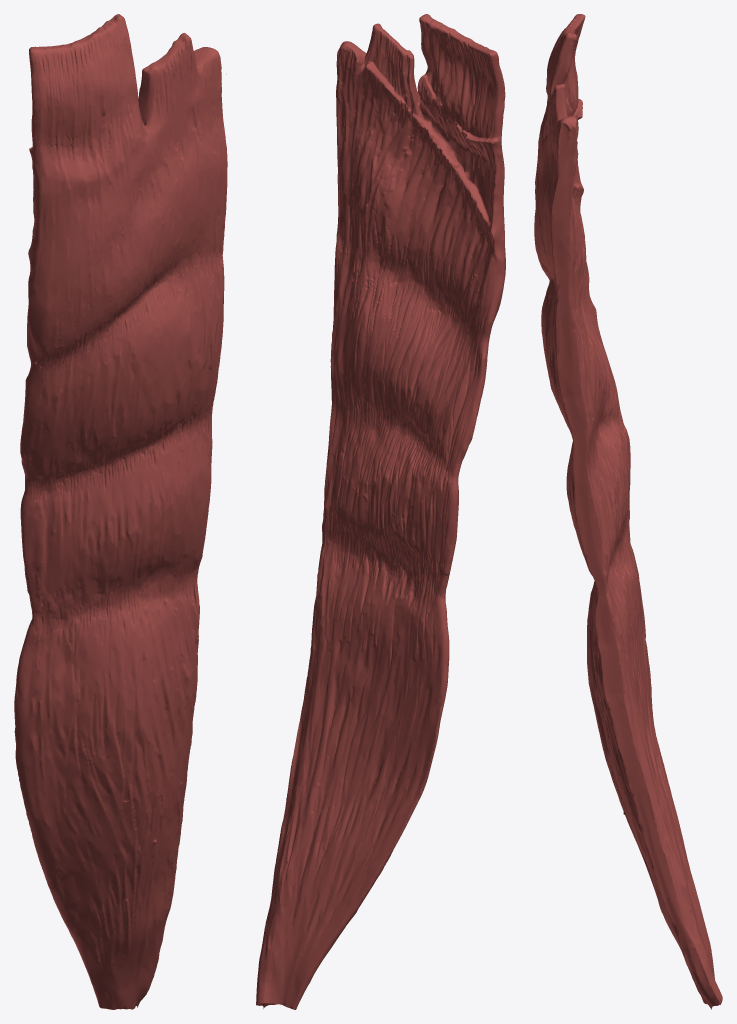
The model's file is FMA13377.glb.
3 views of the same model, side by side, from view 1: azimuth 30°, elevation 25°; view 2: azimuth 150°, elevation 25°; view 3: azimuth 270°, elevation 25° (orthographic). The views are drawn at different scales.
Visible parts, largest first — view 1: FMA13377; view 2: FMA13377; view 3: FMA13377.
Boxes of the visible parts, x1=… form: FMA13377: x1=14, y1=14, x2=227, y2=1009; FMA13377: x1=256, y1=14, x2=505, y2=1009; FMA13377: x1=534, y1=14, x2=722, y2=1009.
Size of the model in its own units: 0.0762 by 0.3958 by 0.0723.
